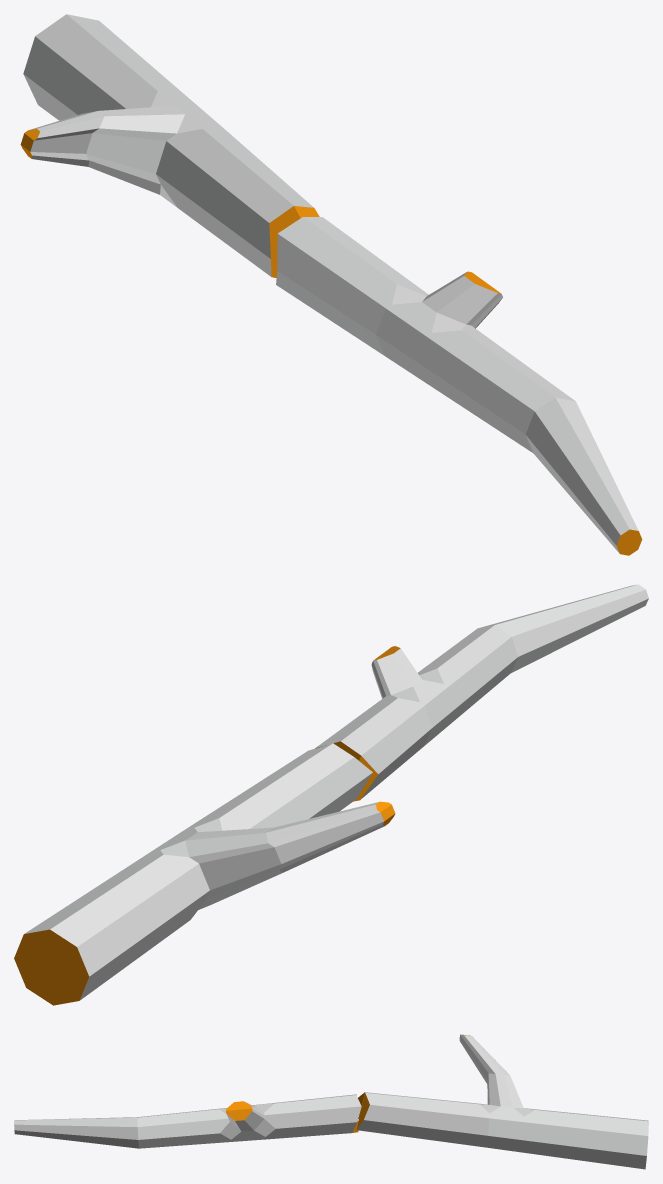
Rendered from Stick_22.fbx.
3 renders of one model, top to bottom at view 1: azimuth 30°, elevation 25°; view 2: azimuth 150°, elevation 25°; view 3: azimuth 270°, elevation 25°, orthographic. The views are drawn at different scales.
Visible parts, largest first — view 1: Circle.233, Circle.227; view 2: Circle.227, Circle.233; view 3: Circle.227, Circle.233.
Part boxes in pixels (x1,y1,x2,y2): Circle.233: (276,217,642,555); Circle.227: (20,14,319,277); Circle.227: (14,743,395,1005); Circle.233: (315,584,648,801); Circle.227: (356,1034,648,1169); Circle.233: (14,1094,361,1148).
Size of the model in its own units: 10.19 by 5.9 by 41.42.
